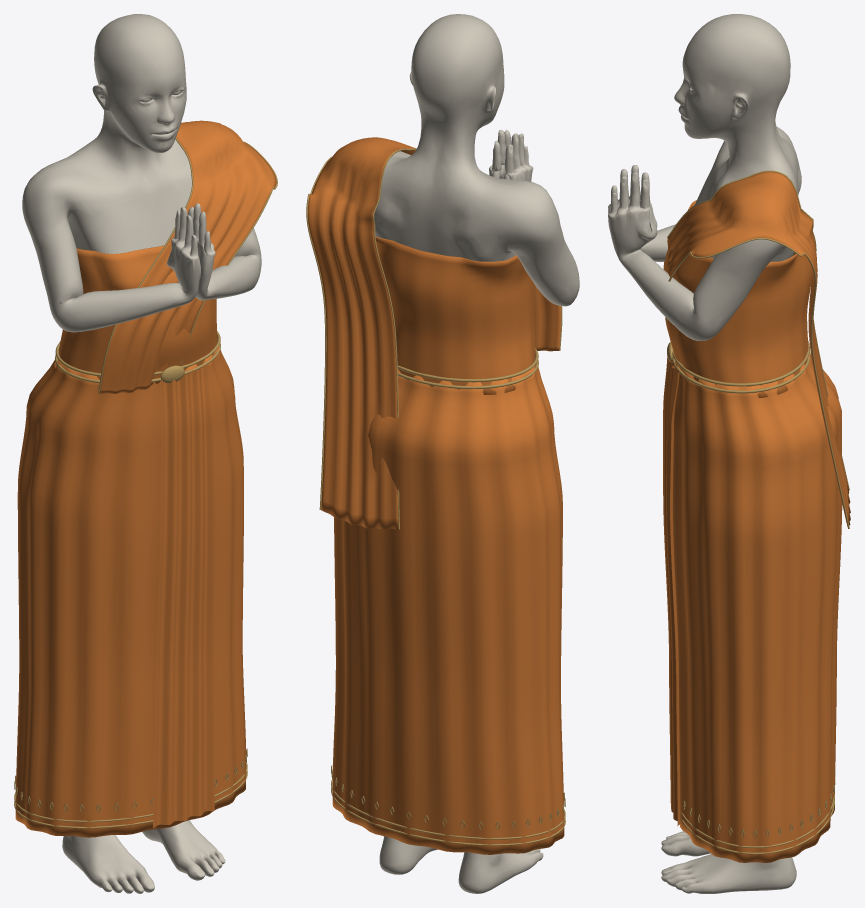
The model's file is fashion-day-v2-ultra.glb.
3 renders of one model, left to right at view 1: azimuth 30°, elevation 25°; view 2: azimuth 150°, elevation 25°; view 3: azimuth 270°, elevation 25°, orthographic.
Parts seen in each view (by area): view 1: day-fabric.001, mannequin-ivory.001, antique-gold.001; view 2: day-fabric.001, mannequin-ivory.001, antique-gold.001; view 3: day-fabric.001, mannequin-ivory.001, antique-gold.001.
Part boxes in pixels (x1=…): day-fabric.001: x1=15, y1=120, x2=276, y2=837; mannequin-ivory.001: x1=22, y1=14, x2=261, y2=893; antique-gold.001: x1=14, y1=137, x2=277, y2=828; day-fabric.001: x1=307, y1=137, x2=564, y2=854; mannequin-ivory.001: x1=374, y1=14, x2=579, y2=893; antique-gold.001: x1=306, y1=148, x2=565, y2=845; day-fabric.001: x1=663, y1=171, x2=850, y2=862; mannequin-ivory.001: x1=608, y1=14, x2=801, y2=893; antique-gold.001: x1=664, y1=170, x2=849, y2=854.
Bounding box in the file's own units: 0.5069 × 1.75 × 0.453.
